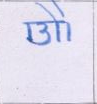o_matra: (58, 4, 73, 41)
